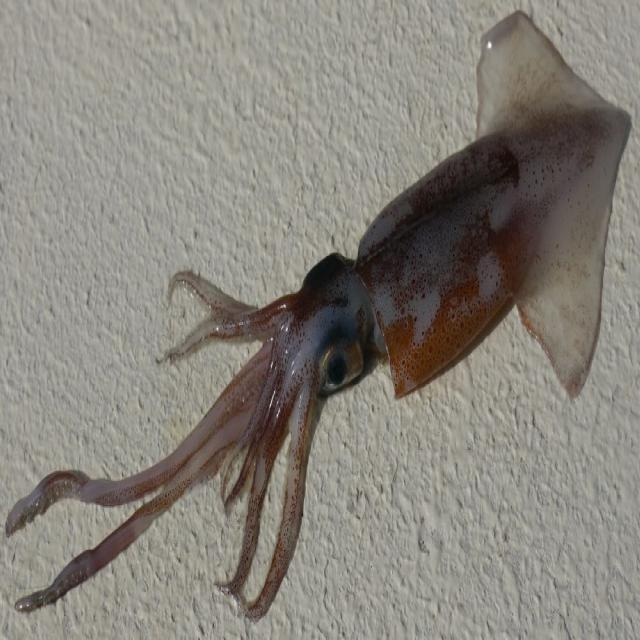SQUID: (30, 3, 640, 640)
